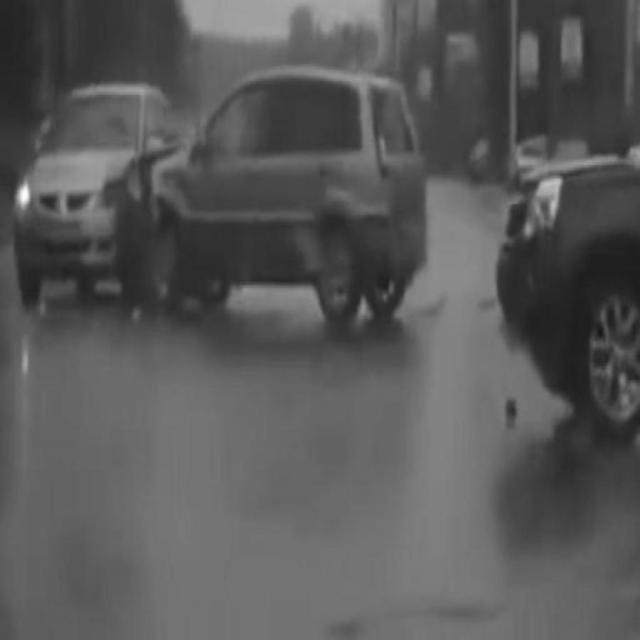accident: (10, 70, 428, 333)
vehicle: (491, 144, 639, 425)
